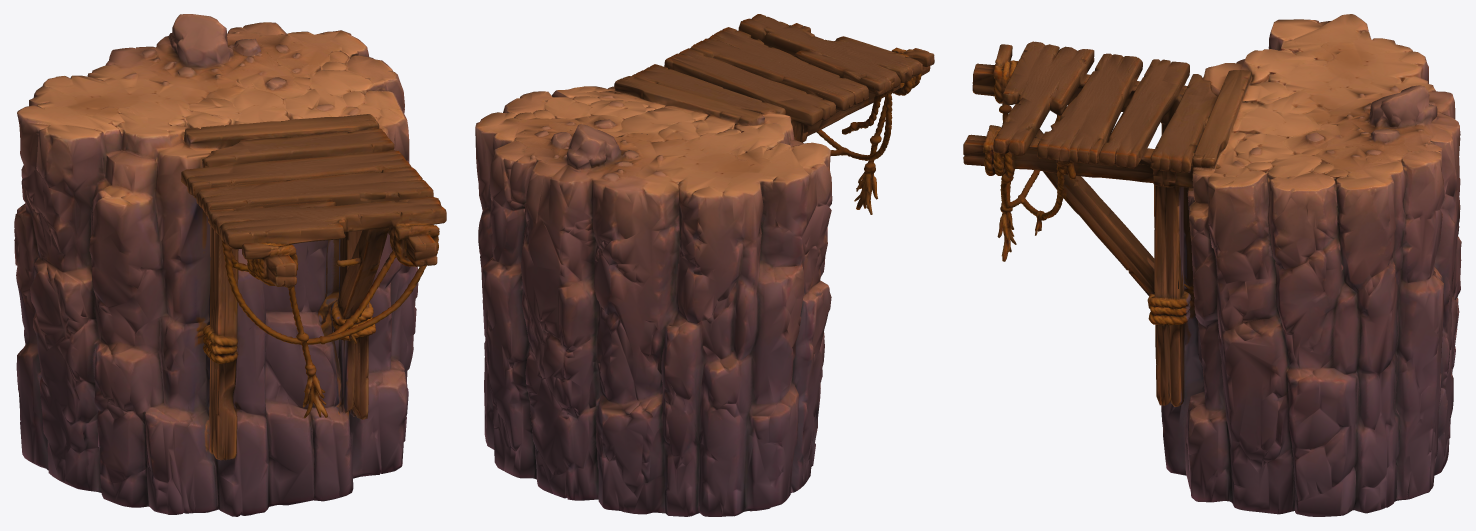
The model's file is puente_derrumbable_alicanto.glb.
3 renders of one model, left to right at view 1: azimuth 30°, elevation 25°; view 2: azimuth 150°, elevation 25°; view 3: azimuth 270°, elevation 25°, orthographic. The views are drawn at different scales.
Visible parts, largest first — view 1: puente_derrumbable_alicanto; view 2: puente_derrumbable_alicanto; view 3: puente_derrumbable_alicanto.
Boxes of the visible parts, x1,y1,x2,y2 form: puente_derrumbable_alicanto: (14, 14, 446, 516); puente_derrumbable_alicanto: (475, 14, 934, 516); puente_derrumbable_alicanto: (963, 14, 1461, 516).
Size of what is drawn, in the model's own units: 9.44 by 9.85 by 12.
1 material, 1 textured.
